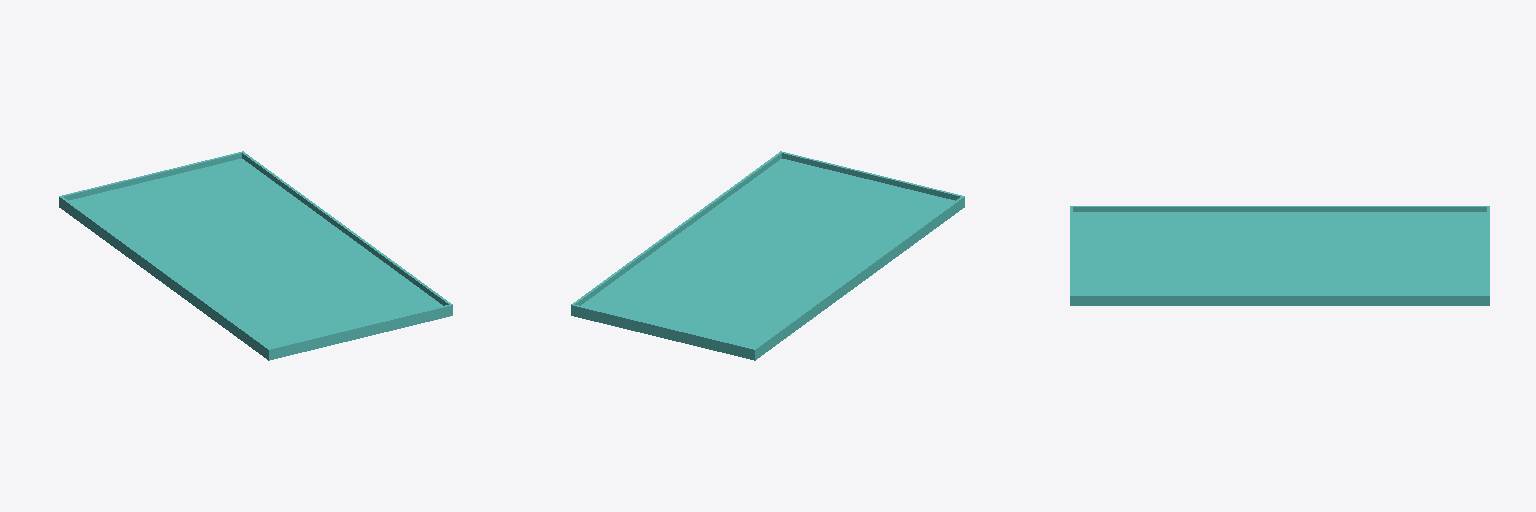
The model's file is screen.obj.
3 views of the same model, side by side, from view 1: azimuth 30°, elevation 25°; view 2: azimuth 150°, elevation 25°; view 3: azimuth 270°, elevation 25° (orthographic).
Visible parts, largest first — view 1: screen_Cube.002; view 2: screen_Cube.002; view 3: screen_Cube.002.
Part boxes in pixels (left/top/right/bottom): screen_Cube.002: left=59, top=151, right=452, bottom=360; screen_Cube.002: left=571, top=151, right=964, bottom=360; screen_Cube.002: left=1070, top=206, right=1489, bottom=305.
Bounding box in the file's own units: 7.2 × 0.4 × 14.2.